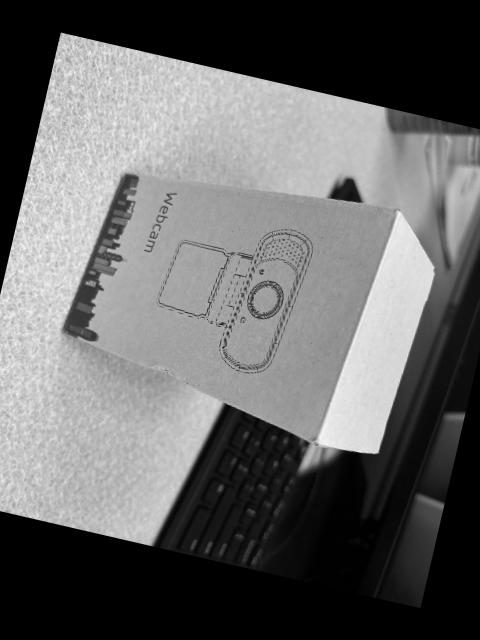CameraBox1: (60, 170, 433, 454)
